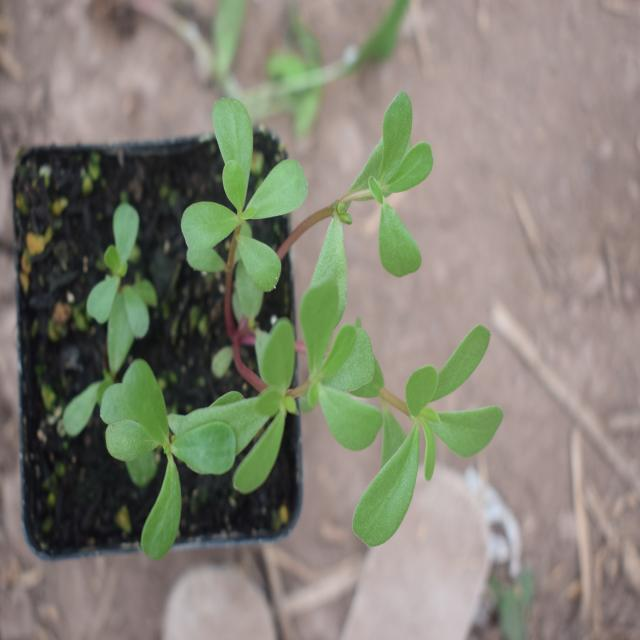purslane: (72, 129, 513, 516)
